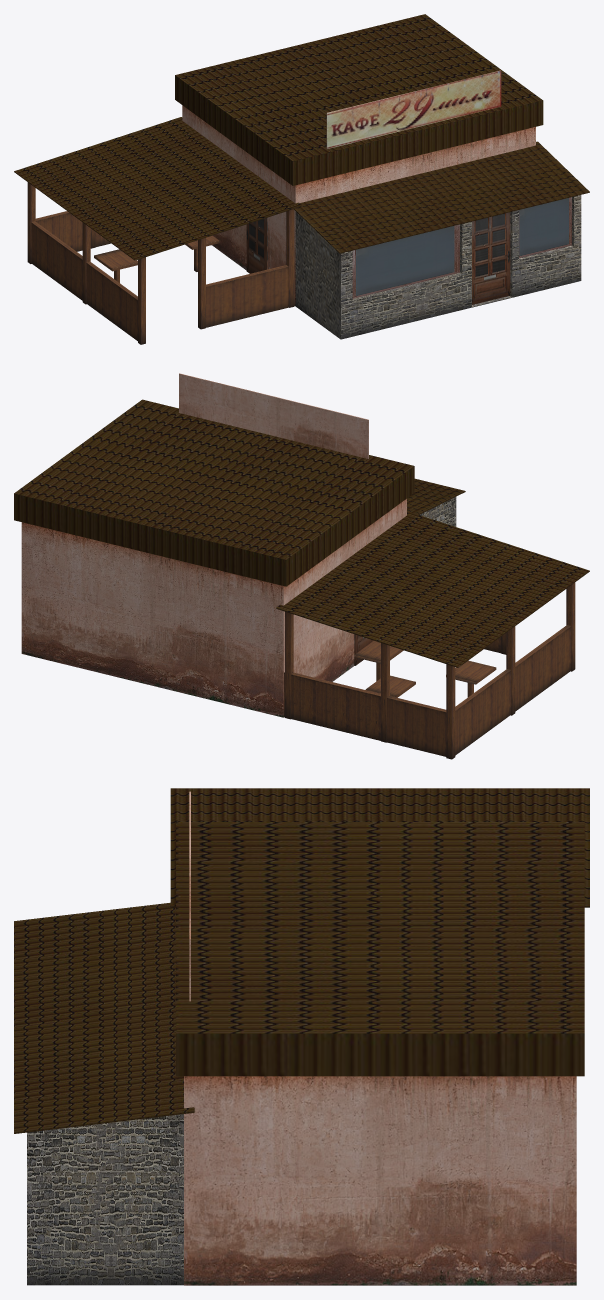
File: r402_kr_yar_kafe_29milya.FBX
The picture shows the model from 3 angles, top to bottom: view 1: azimuth 30°, elevation 25°; view 2: azimuth 150°, elevation 25°; view 3: azimuth 270°, elevation 25°; orthographic projection. The views are drawn at different scales.
Visible parts, largest first — view 1: r402_kr_yar_kafe_29milya; view 2: r402_kr_yar_kafe_29milya; view 3: r402_kr_yar_kafe_29milya.
Boxes of the visible parts, bbox=[...] form: r402_kr_yar_kafe_29milya: bbox=[14, 14, 589, 344]; r402_kr_yar_kafe_29milya: bbox=[14, 373, 589, 759]; r402_kr_yar_kafe_29milya: bbox=[14, 788, 589, 1285].
Size of the model in its own units: 1044 by 734 by 450.
